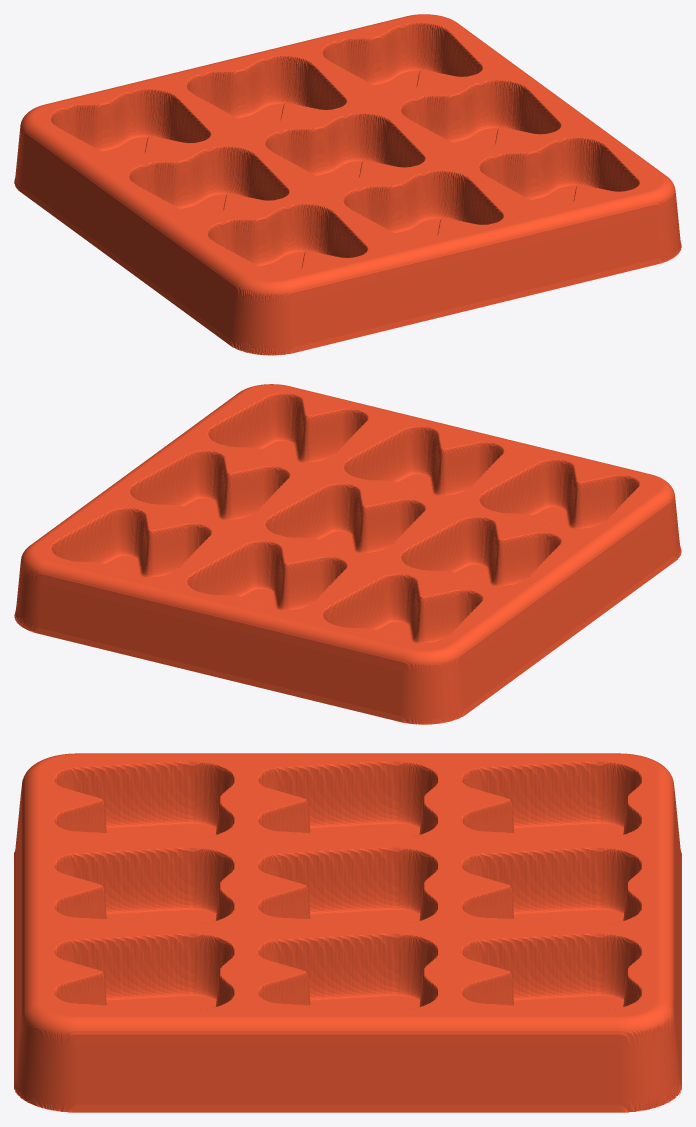
File: mold.glb
3 views of the same model, one above another, from view 1: azimuth 30°, elevation 25°; view 2: azimuth 150°, elevation 25°; view 3: azimuth 270°, elevation 25° (orthographic). The views are drawn at different scales.
Parts seen in each view (by area): view 1: geometry_0; view 2: geometry_0; view 3: geometry_0.
Boxes of the visible parts, left/top/right/bottom form: geometry_0: left=14, top=14, right=681, bottom=355; geometry_0: left=14, top=384, right=681, bottom=724; geometry_0: left=14, top=753, right=681, bottom=1112.
Size of the model in its own units: 0.0964 by 0.0136 by 0.0964.
